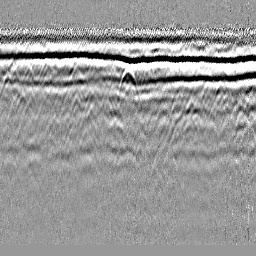cavity: (117, 67, 139, 101)
